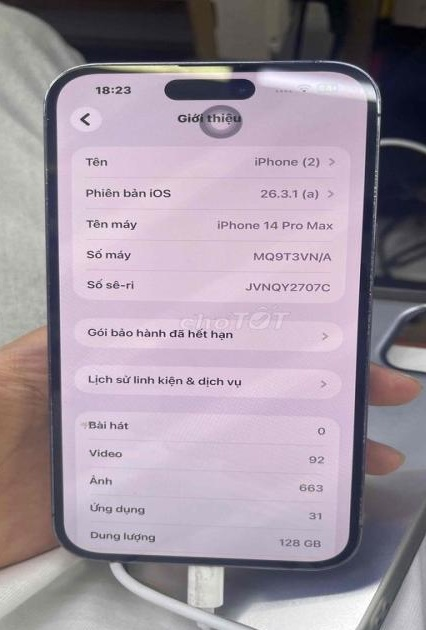scratch: (44, 110, 50, 192), (359, 479, 365, 544)
